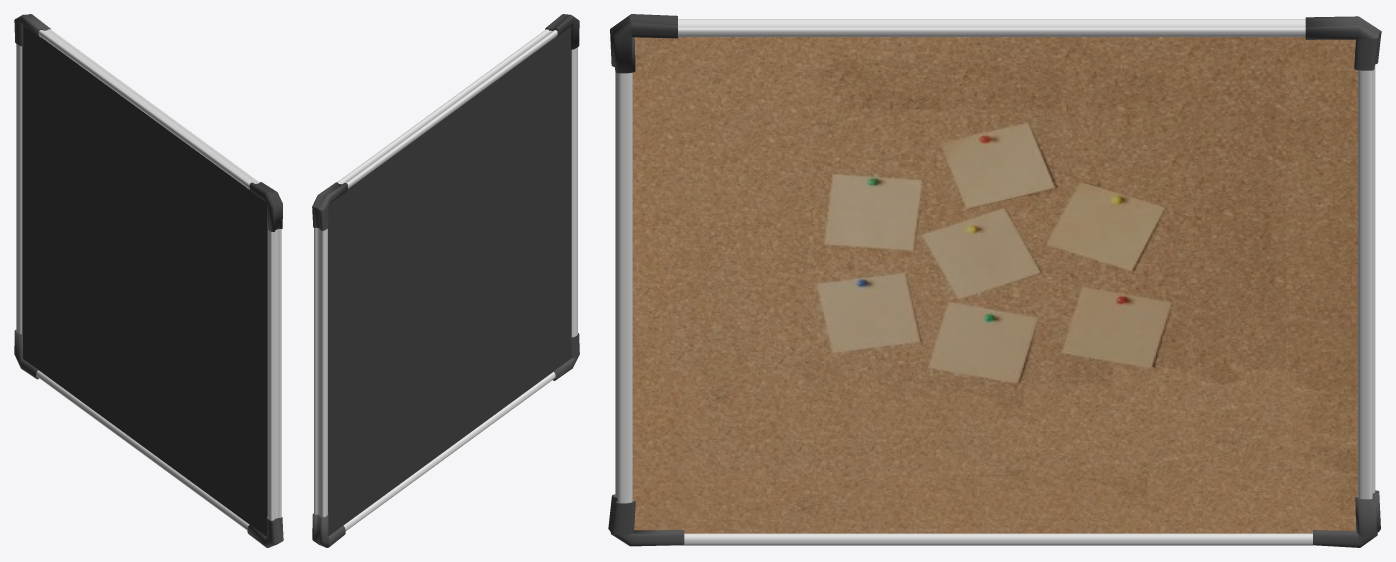
File: note_board.dae
3 views of the same model, side by side, from view 1: azimuth 30°, elevation 25°; view 2: azimuth 150°, elevation 25°; view 3: azimuth 270°, elevation 25° (orthographic). The views are drawn at different scales.
Parts seen in each view (by area): view 1: Cube.1, Cylinder.1, Cylinder.2, Cylinder, Cylinder.3, Plastic_part_1.1, Plastic_part_1.3, Plastic_part_1, Plastic_part_1.2; view 2: Cube.1, Cylinder, Cylinder.2, Cylinder.1, Cylinder.3, Plastic_part_1, Plastic_part_1.2, Plastic_part_1.1, Plastic_part_1.3; view 3: Cube.1, Cylinder.2, Cylinder.3, Cylinder.1, Cylinder, Plastic_part_1, Plastic_part_1.1, Plastic_part_1.2, Plastic_part_1.3.
Part boxes in pixels (bbox=[...]): Cube.1: bbox=[22, 25, 267, 536]; Cylinder.1: bbox=[267, 229, 281, 520]; Cylinder.2: bbox=[38, 29, 259, 189]; Cylinder: bbox=[16, 44, 22, 334]; Cylinder.3: bbox=[36, 370, 249, 530]; Plastic_part_1.1: bbox=[249, 182, 282, 231]; Plastic_part_1.3: bbox=[247, 516, 283, 547]; Plastic_part_1: bbox=[14, 14, 50, 46]; Plastic_part_1.2: bbox=[14, 330, 38, 379]; Cube.1: bbox=[328, 26, 571, 536]; Cylinder: bbox=[314, 227, 327, 517]; Cylinder.2: bbox=[337, 29, 557, 188]; Cylinder.1: bbox=[571, 47, 577, 337]; Cylinder.3: bbox=[343, 372, 555, 530]; Plastic_part_1: bbox=[312, 182, 347, 230]; Plastic_part_1.2: bbox=[312, 513, 345, 547]; Plastic_part_1.1: bbox=[545, 14, 579, 49]; Plastic_part_1.3: bbox=[553, 333, 579, 380]; Cube.1: bbox=[632, 37, 1357, 533]; Cylinder.2: bbox=[678, 19, 1305, 36]; Cylinder.3: bbox=[670, 533, 1312, 545]; Cylinder.1: bbox=[615, 72, 632, 503]; Cylinder: bbox=[1358, 65, 1375, 499]; Plastic_part_1: bbox=[1305, 16, 1381, 70]; Plastic_part_1.1: bbox=[610, 14, 677, 73]; Plastic_part_1.2: bbox=[1313, 490, 1380, 547]; Plastic_part_1.3: bbox=[608, 494, 684, 546].
Bounding box in the file's own units: 0.0228 × 0.7893 × 0.5965.
